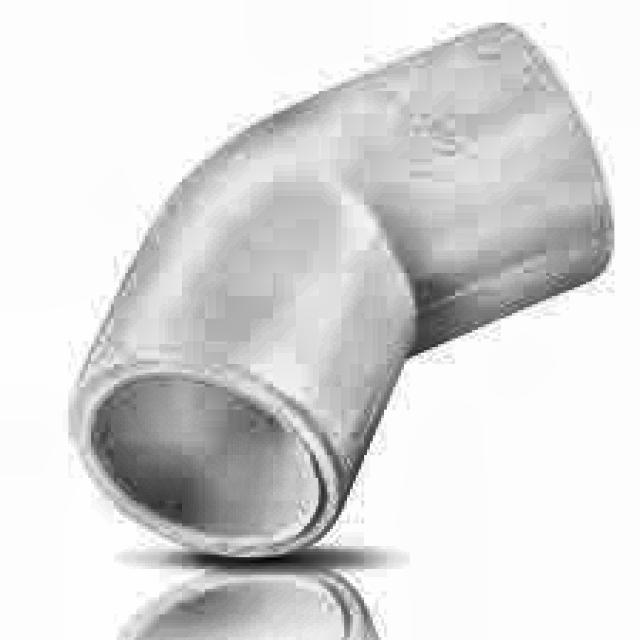ELBOW45: (65, 20, 617, 563)
